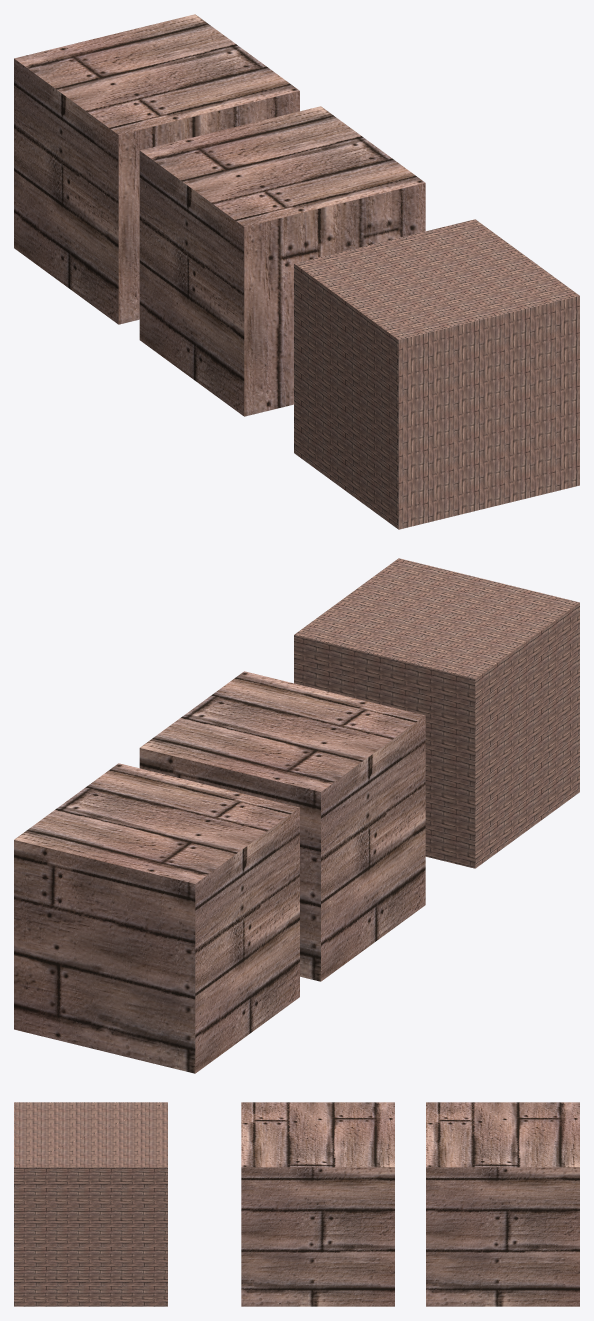
Rendered from texturescaletest.fbx.
3 views of the same model, one above another, from view 1: azimuth 30°, elevation 25°; view 2: azimuth 150°, elevation 25°; view 3: azimuth 270°, elevation 25° (orthographic). The views are drawn at different scales.
Visible parts, largest first — view 1: Cube.002, Cube, Cube.001; view 2: Cube.001, Cube.002, Cube; view 3: Cube.002, Cube.001, Cube.
Boxes of the visible parts, left/top/right/bottom form: Cube.002: left=294, top=219, right=579, bottom=529; Cube: left=139, top=106, right=425, bottom=416; Cube.001: left=14, top=14, right=299, bottom=324; Cube.001: left=14, top=763, right=299, bottom=1073; Cube.002: left=294, top=558, right=579, bottom=868; Cube: left=139, top=671, right=425, bottom=981; Cube.002: left=14, top=1102, right=167, bottom=1306; Cube.001: left=426, top=1102, right=579, bottom=1306; Cube: left=241, top=1102, right=394, bottom=1306.
Bounding box in the file's own units: 200 × 200 × 735.
Materials: 2 (2 with a texture image).
